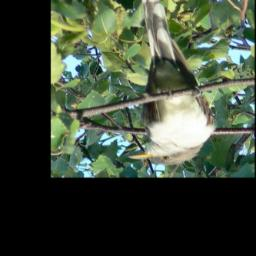Cuckoo: (127, 0, 215, 167)
